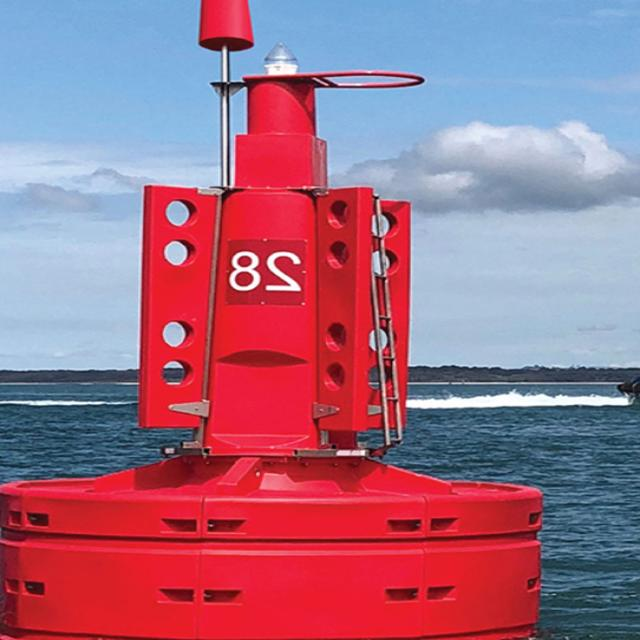buoy: (0, 0, 546, 640)
